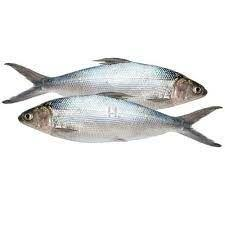Bangus: (18, 93, 223, 151), (3, 55, 207, 109)
